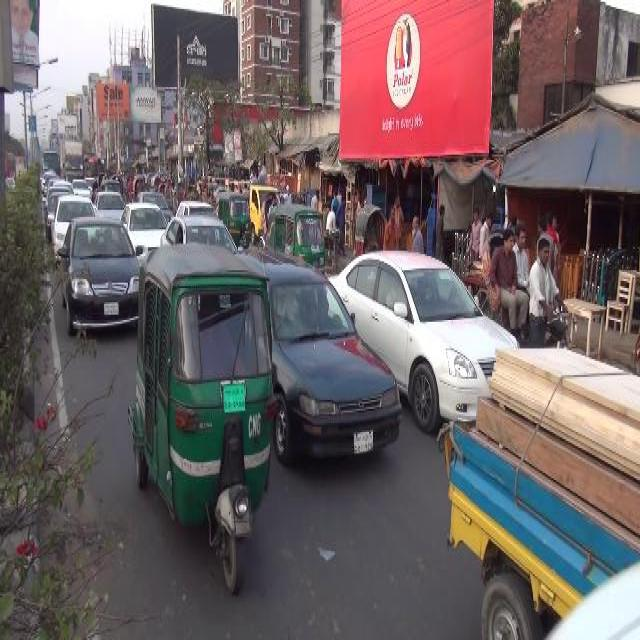11: (436, 344, 640, 630), (248, 182, 280, 241), (58, 136, 84, 184)
13: (478, 218, 570, 354), (353, 196, 399, 252), (263, 188, 285, 235), (181, 177, 201, 207), (157, 179, 173, 209), (132, 175, 144, 205), (174, 179, 186, 205)
17: (125, 239, 277, 597), (266, 194, 328, 261), (212, 183, 256, 251), (222, 190, 252, 252), (102, 176, 124, 197)
5: (330, 242, 526, 444), (271, 243, 407, 472), (58, 210, 144, 338), (119, 197, 168, 258), (53, 194, 93, 247), (92, 187, 125, 222), (71, 178, 91, 195)
Truck: (39, 148, 59, 178), (84, 151, 102, 183)
